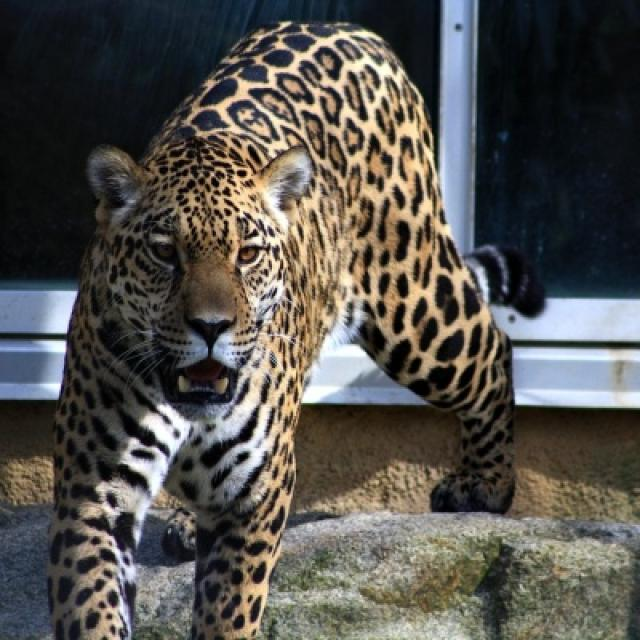Jaguar: (45, 21, 546, 638)
